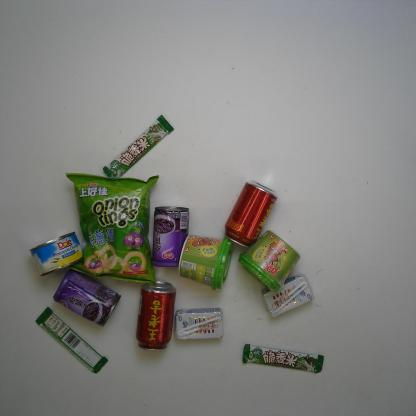Canned Food: (52, 268, 122, 327), (29, 231, 84, 277), (151, 206, 190, 268)
Chocolate: (34, 306, 108, 374), (102, 114, 176, 180), (241, 344, 325, 374)
Drink: (223, 179, 278, 250), (136, 280, 177, 352)
Instant Drink: (238, 229, 301, 293), (178, 235, 233, 290)
Milk: (262, 273, 316, 317), (174, 307, 224, 340)
Puffed Food: (64, 171, 160, 286)
